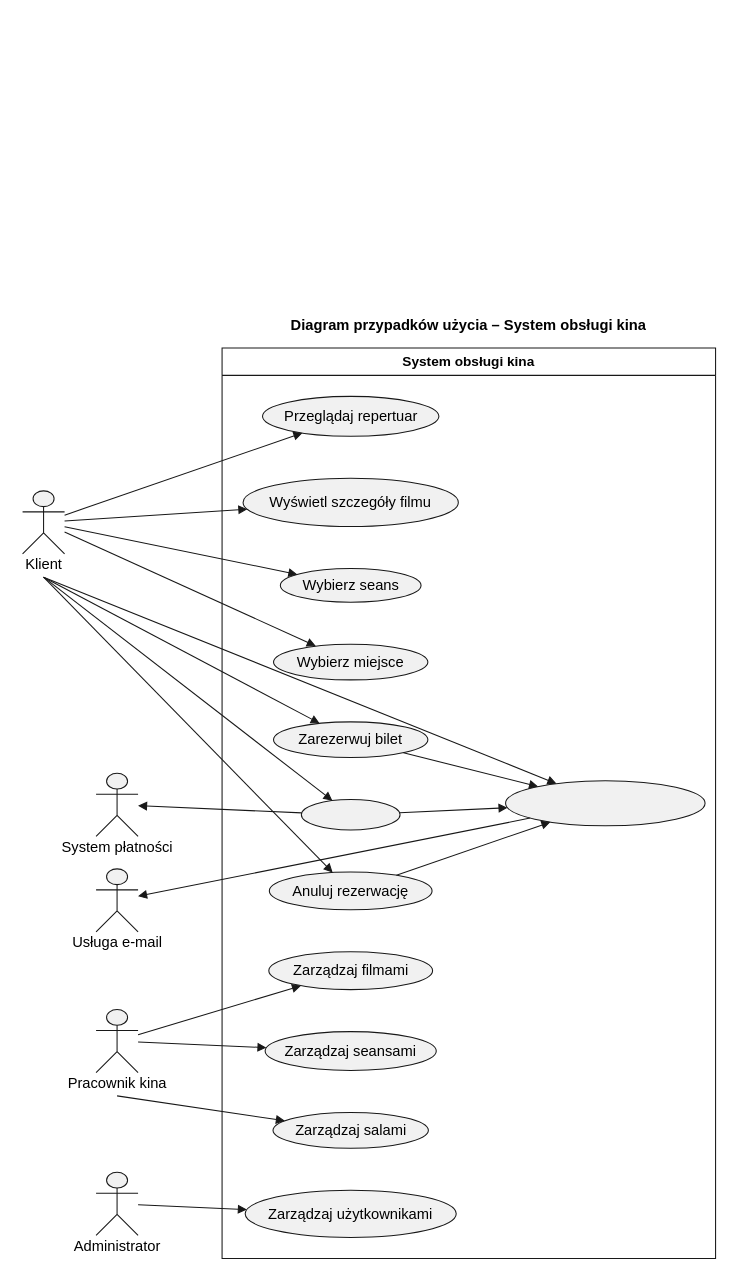
This 734x1277 diagram has some shape labels left out. Here are the shapes that lost their labels. From the top down, the centre of each, then its label:
At (350,814): "Kup bilet".
At (605,803): "Otrzymaj potwierdzenie".
